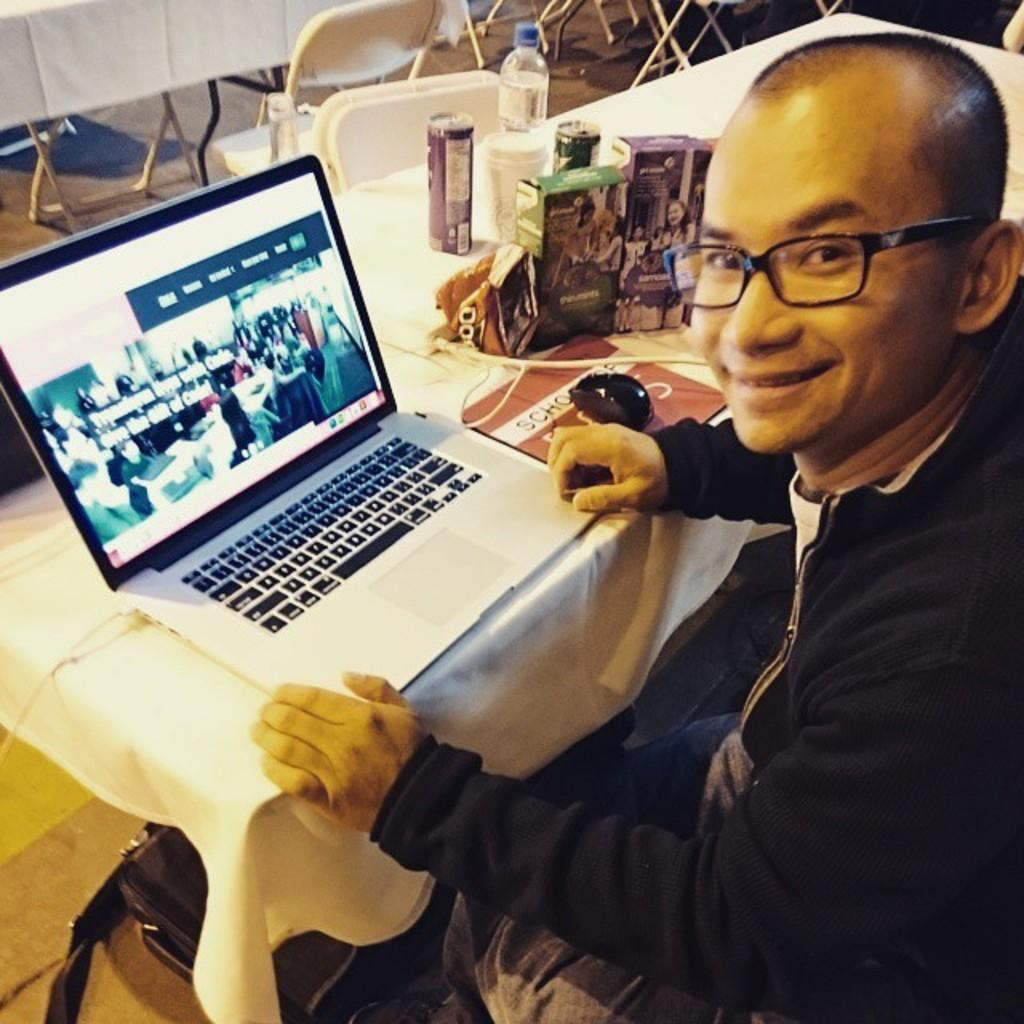Computer-keyboard: (178, 432, 490, 635)
